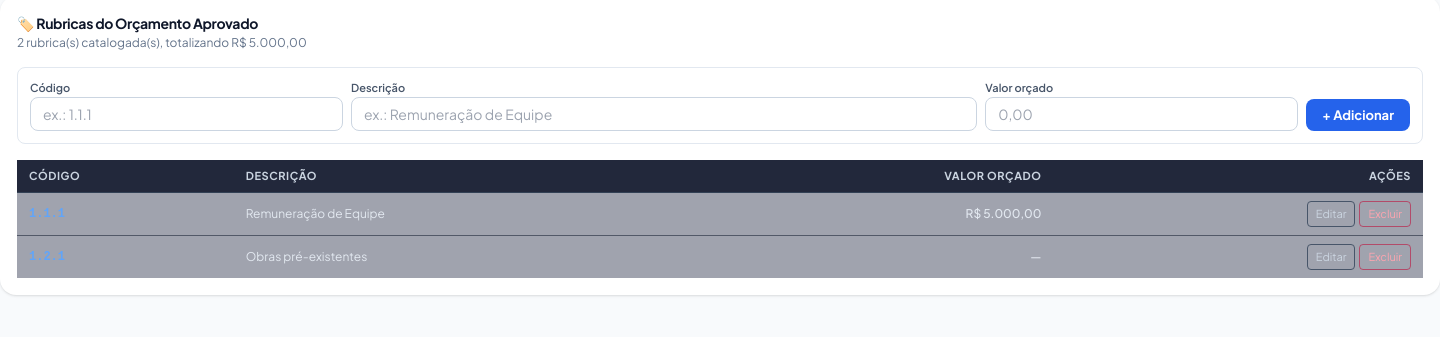
Test: RubricasProjeto › edita uma rubrica via PATCH e recarrega
Click the button "Editar" in the row of "1.1.1" at point(1331, 214), box [1307,200,1356,226]
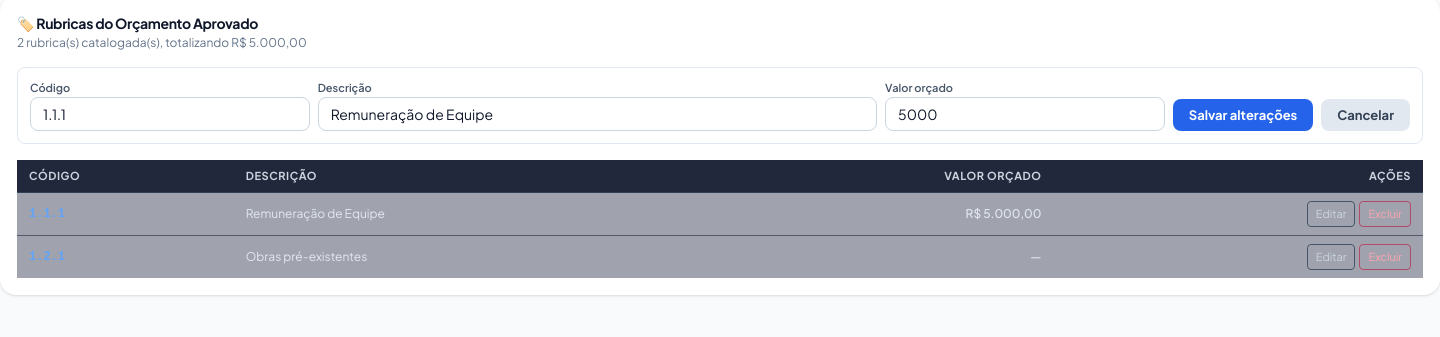
Replace the text in the field with placeholder "ex.: Remuneração de Equipe" with "Remuneração de Equipe Técnica" at point(597, 114), box [318,96,877,130]
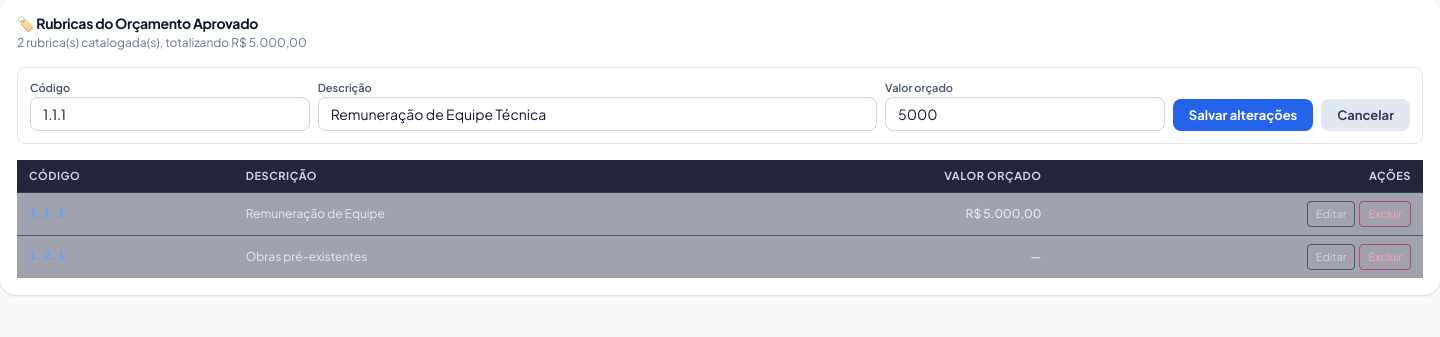
Click the button "Salvar alterações" at point(1243, 114), box [1173,98,1313,130]
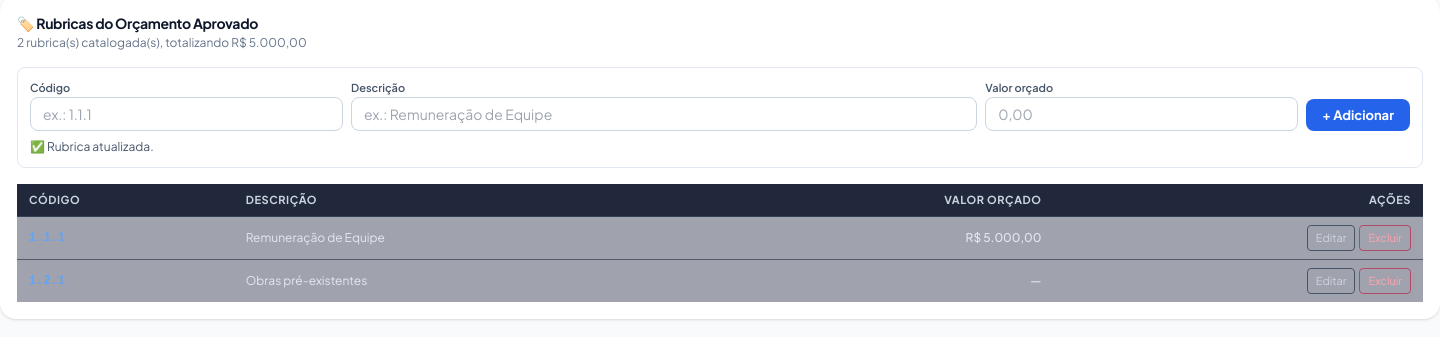
Check: the text "✅ Rubrica atualizada." is shown, box [30,138,154,154]
